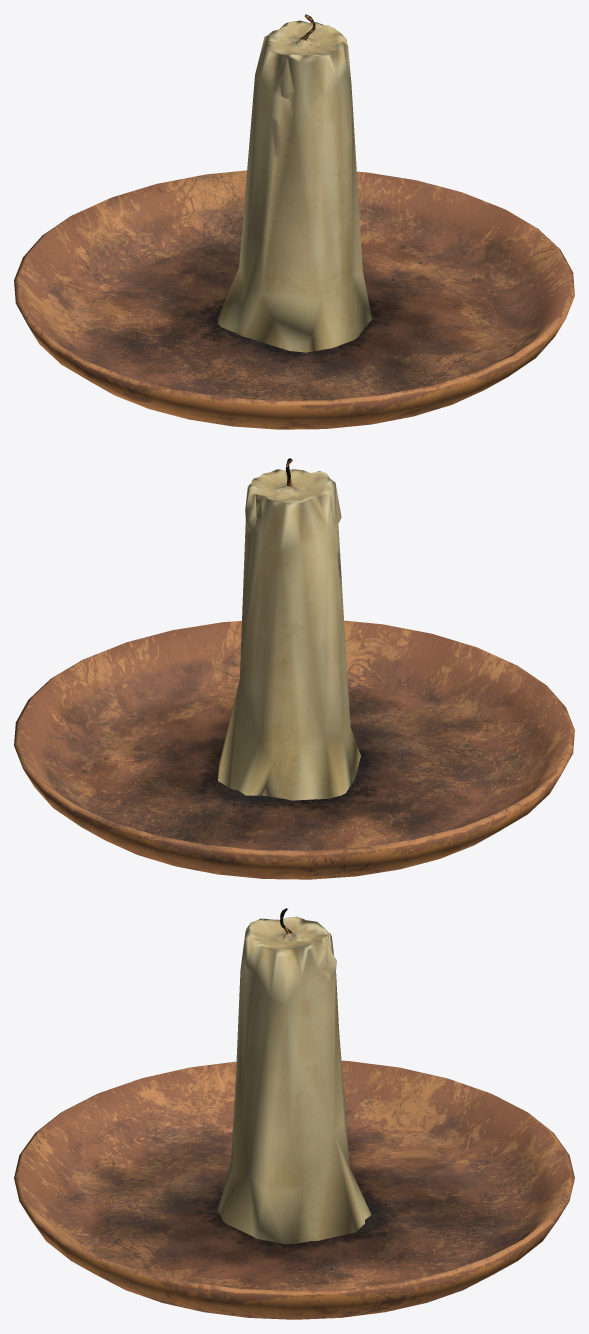
Rendered from candle.glb.
The picture shows the model from 3 angles, top to bottom: view 1: azimuth 30°, elevation 25°; view 2: azimuth 150°, elevation 25°; view 3: azimuth 270°, elevation 25°; orthographic projection.
Visible parts, largest first — view 1: candlestick, candle; view 2: candlestick, candle; view 3: candlestick, candle.
Part boxes in pixels (x1,y1,x2,y2): candlestick: [14, 170, 574, 429]; candle: [217, 14, 371, 352]; candlestick: [14, 620, 574, 879]; candle: [218, 458, 360, 800]; candlestick: [14, 1060, 574, 1319]; candle: [218, 908, 371, 1244].
Size of the model in its own units: 91.52 by 61.58 by 91.52.
2 materials, 2 textured.
